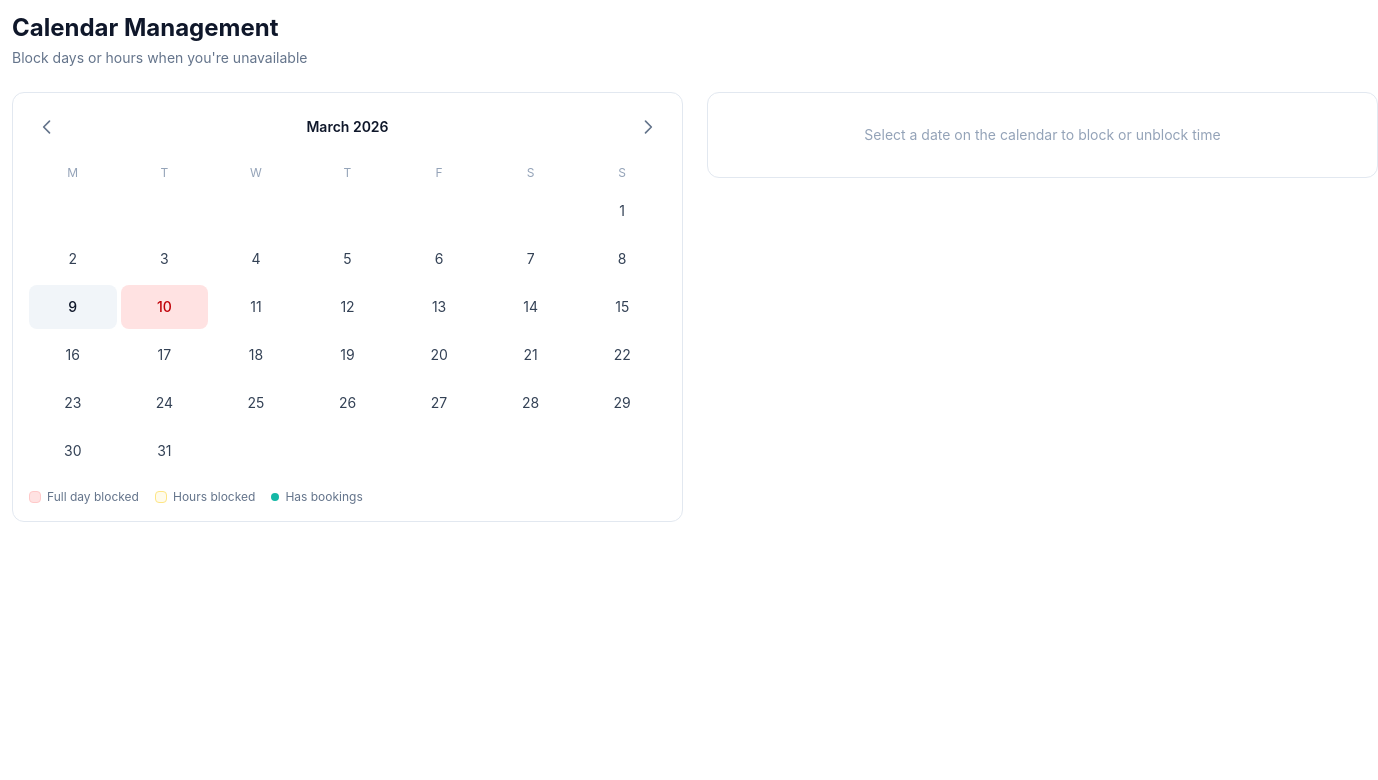
Test: Calendar Page › shows existing blocks for a selected date
This screenshot has width=1378, height=780.
Click the button "10" at [164, 307], box [121,285,208,329]
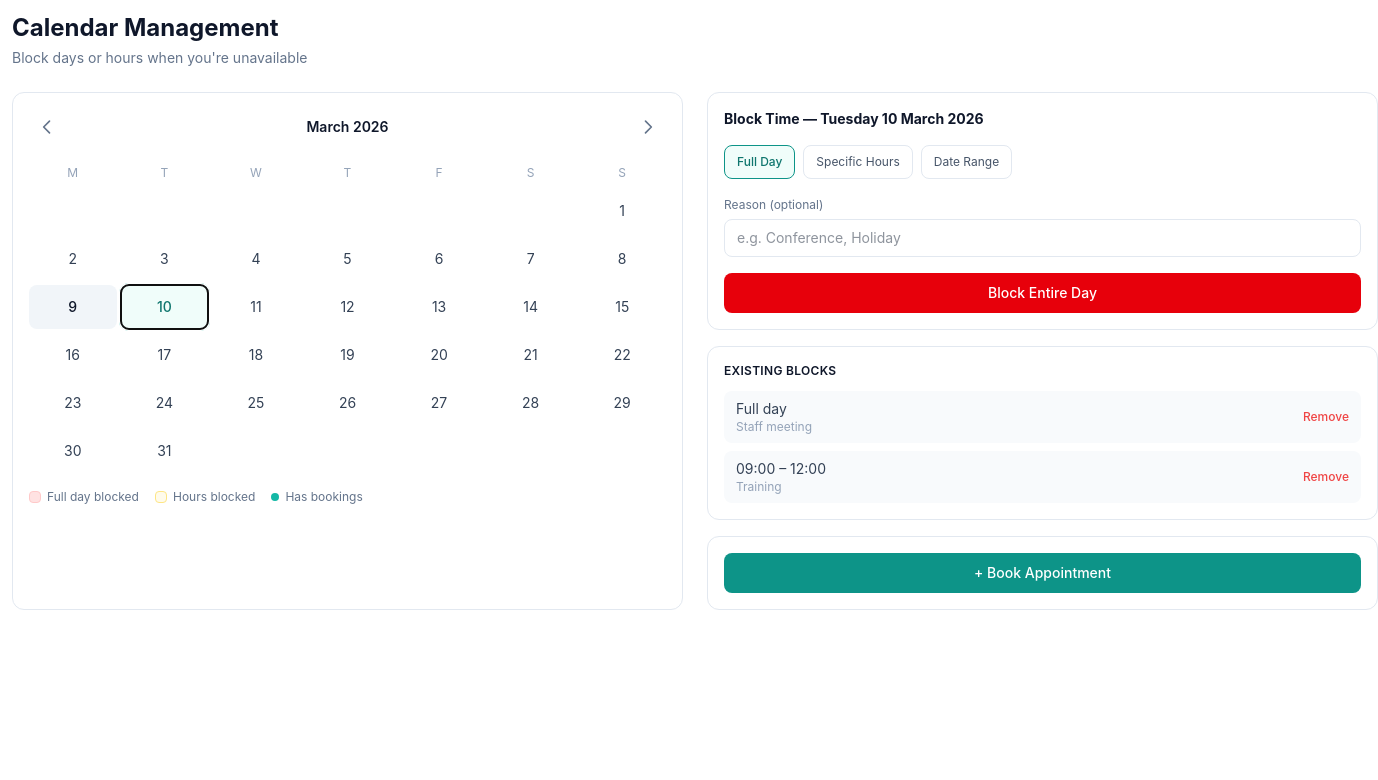
Expected: the heading "Existing Blocks" is shown, [724,363,836,378]
Expected: the text "Full day" is shown, [736,400,787,417]
Expected: the text "09:00 – 12:00" is shown, [736,459,826,479]
